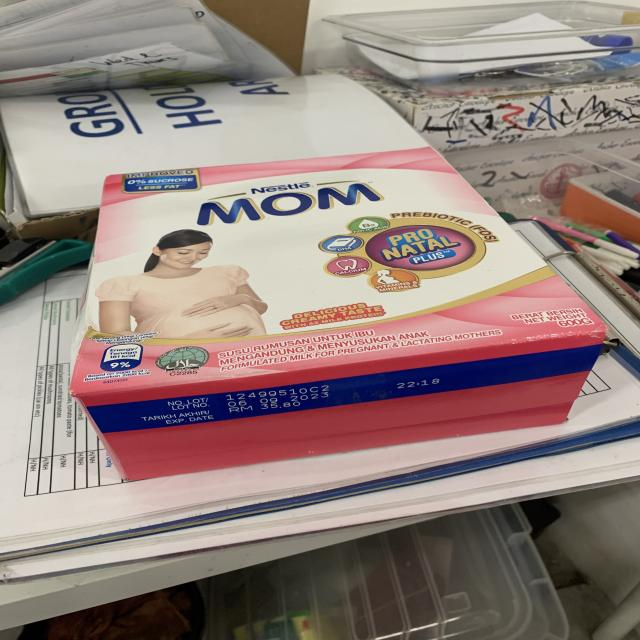object_name: (84, 176, 572, 426)
